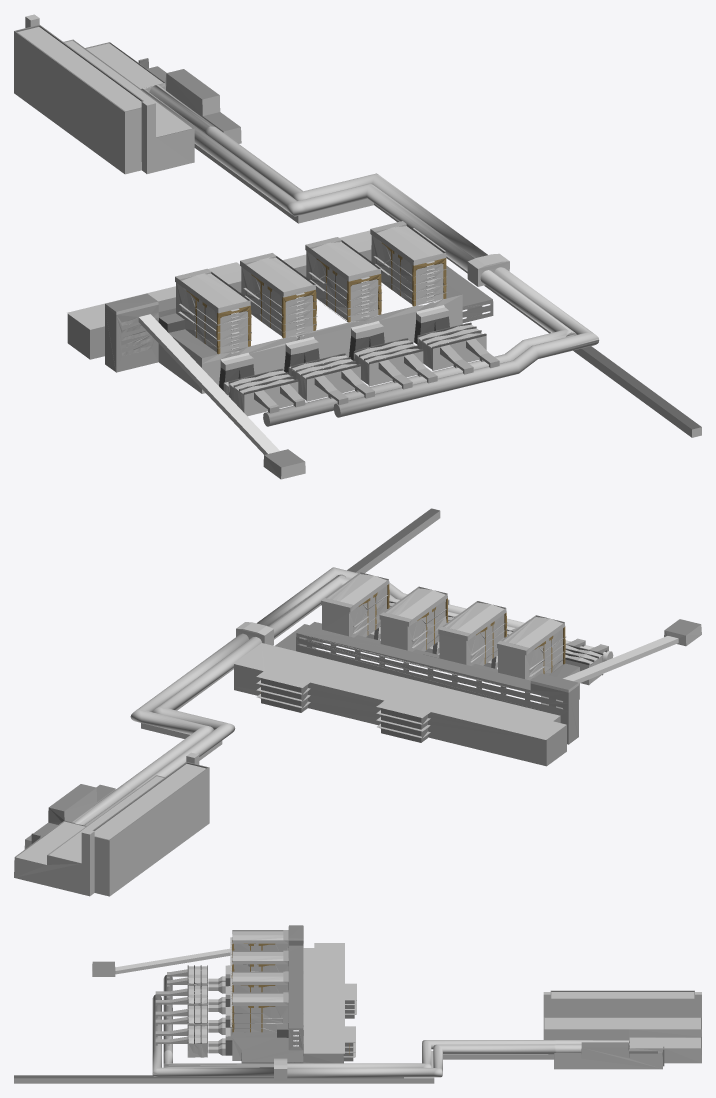
The model's file is kraftwerk-jaenschwalde-b_LOD01.gltf.
3 renders of one model, top to bottom at view 1: azimuth 30°, elevation 25°; view 2: azimuth 150°, elevation 25°; view 3: azimuth 270°, elevation 25°, orthographic. The views are drawn at different scales.
Visible parts, largest first — view 1: Sketchup.002; view 2: Sketchup.002; view 3: Sketchup.002.
Boxes of the visible parts, x1,y1,x2,y2 form: Sketchup.002: (14, 14, 701, 479); Sketchup.002: (14, 508, 701, 896); Sketchup.002: (14, 925, 701, 1083).
Size of the model in its own units: 275 by 55.28 by 647.
